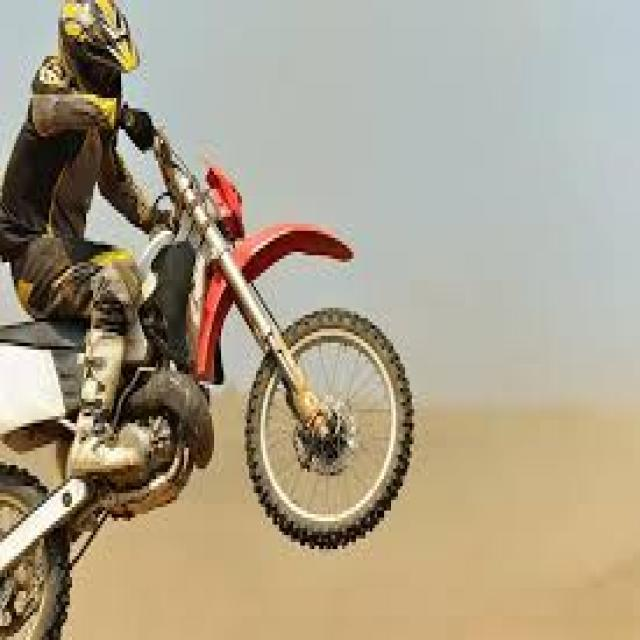Wheeling: (0, 0, 412, 616)
